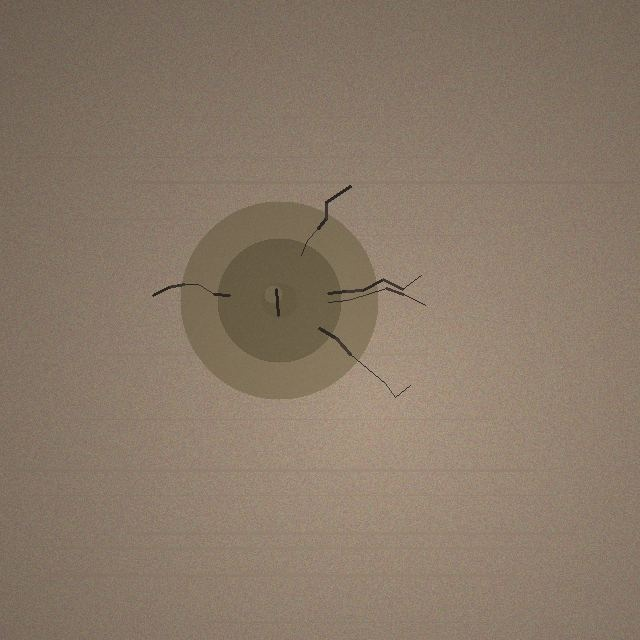crack: (180, 201, 378, 399)
